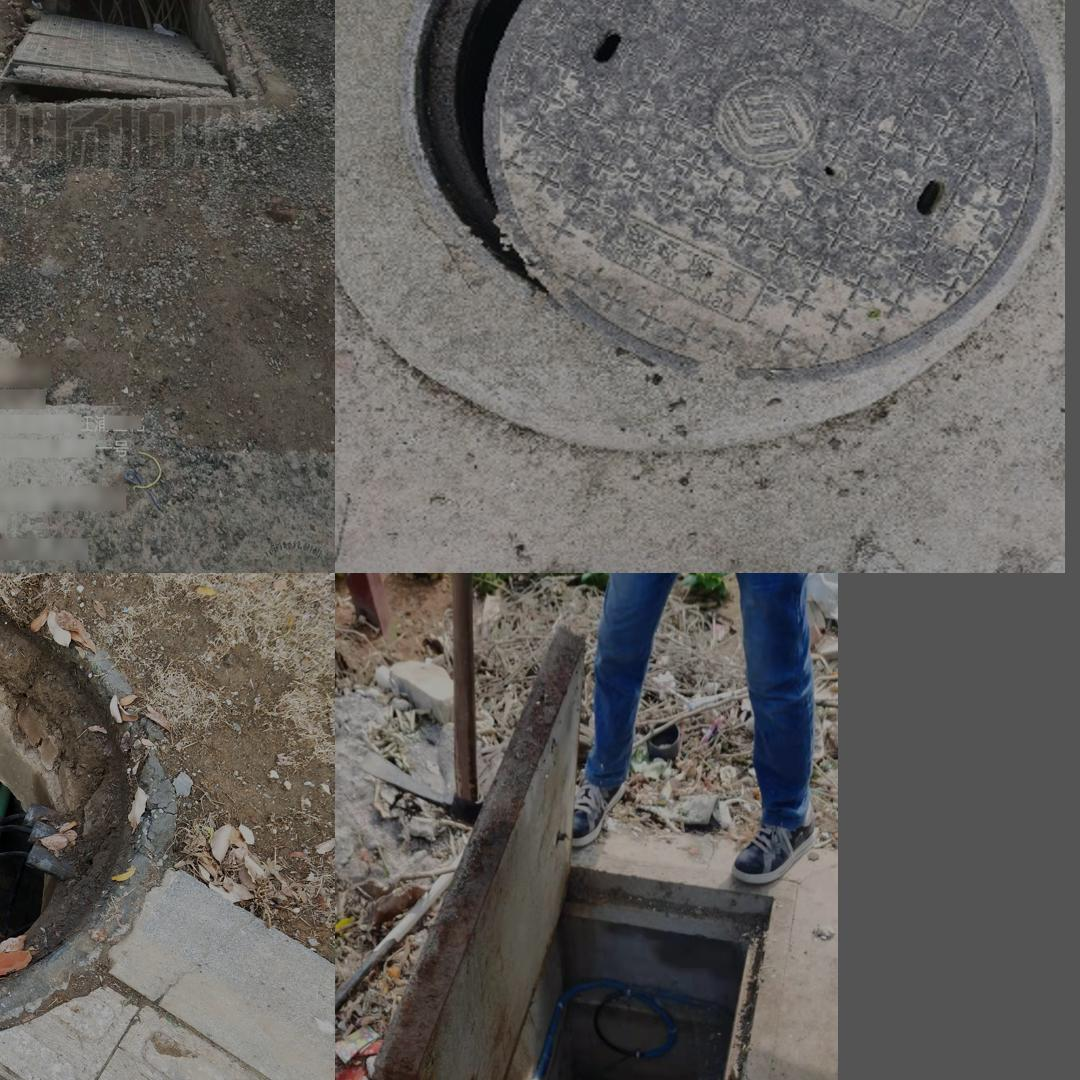uncovered: (398, 0, 1052, 377), (385, 614, 780, 1080), (0, 573, 170, 1051), (0, 0, 266, 111)
